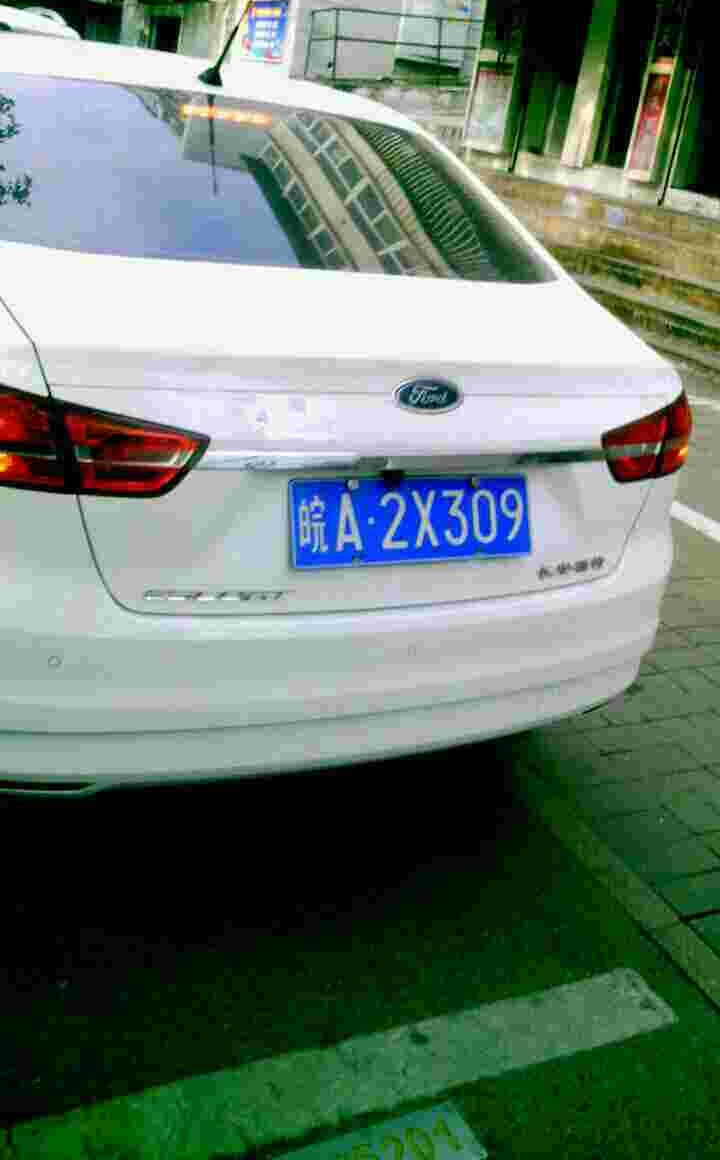car: (281, 483, 535, 559)
